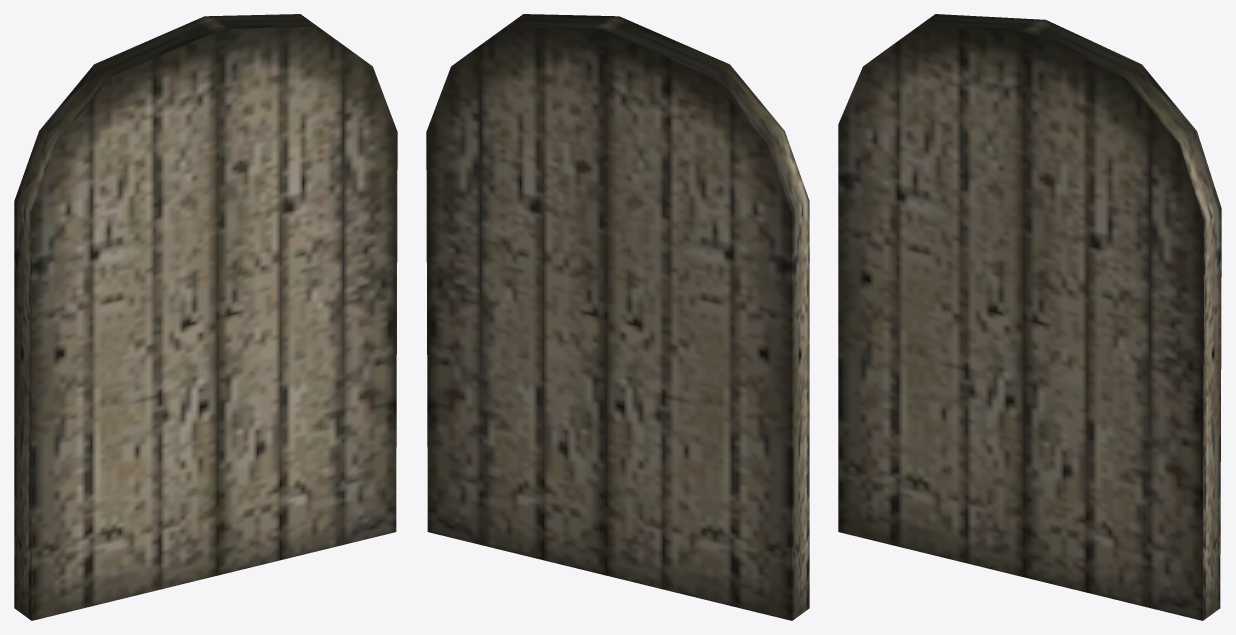
Rendered from DoorOutpost_M4.glb.
The picture shows the model from 3 angles, left to right: view 1: azimuth 30°, elevation 25°; view 2: azimuth 150°, elevation 25°; view 3: azimuth 330°, elevation 25°; orthographic projection.
Parts seen in each view (by area): view 1: DOOROUTPOST_M4; view 2: DOOROUTPOST_M4; view 3: DOOROUTPOST_M4.
Part boxes in pixels (x1,y1,x2,y2): DOOROUTPOST_M4: (14, 14, 397, 620); DOOROUTPOST_M4: (426, 14, 809, 620); DOOROUTPOST_M4: (838, 14, 1221, 620).
Size of the model in its own units: 2.03 by 2.89 by 0.167.
1 material, 1 textured.
